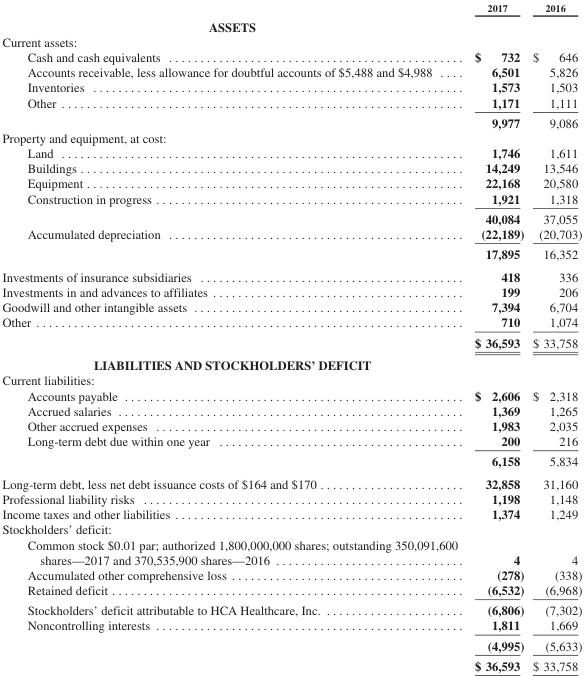table: (1, 1, 581, 672)
table column: (1, 1, 465, 672), (465, 1, 527, 672), (527, 1, 581, 672)
table column header: (1, 1, 581, 16)
table projected row header: (1, 353, 581, 372), (1, 16, 581, 34), (1, 34, 581, 49), (1, 130, 581, 145), (1, 372, 581, 387), (1, 521, 581, 536)
table row: (1, 536, 581, 566), (1, 243, 581, 265), (1, 331, 581, 353), (1, 450, 581, 472), (1, 634, 581, 655), (1, 353, 581, 372), (1, 472, 581, 491), (1, 16, 581, 34), (1, 94, 581, 112), (1, 112, 581, 130), (1, 190, 581, 208), (1, 225, 581, 243), (1, 265, 581, 283), (1, 432, 581, 450), (1, 581, 581, 599), (1, 599, 581, 617), (1, 208, 581, 225), (1, 314, 581, 331), (1, 617, 581, 634), (1, 655, 581, 672), (1, 283, 581, 299), (1, 1, 581, 16), (1, 34, 581, 49), (1, 49, 581, 64), (1, 64, 581, 79), (1, 79, 581, 94), (1, 130, 581, 145), (1, 145, 581, 160), (1, 160, 581, 175), (1, 175, 581, 190), (1, 299, 581, 314), (1, 372, 581, 387), (1, 387, 581, 402), (1, 402, 581, 417), (1, 417, 581, 432), (1, 491, 581, 506), (1, 506, 581, 521), (1, 521, 581, 536), (1, 566, 581, 581)
